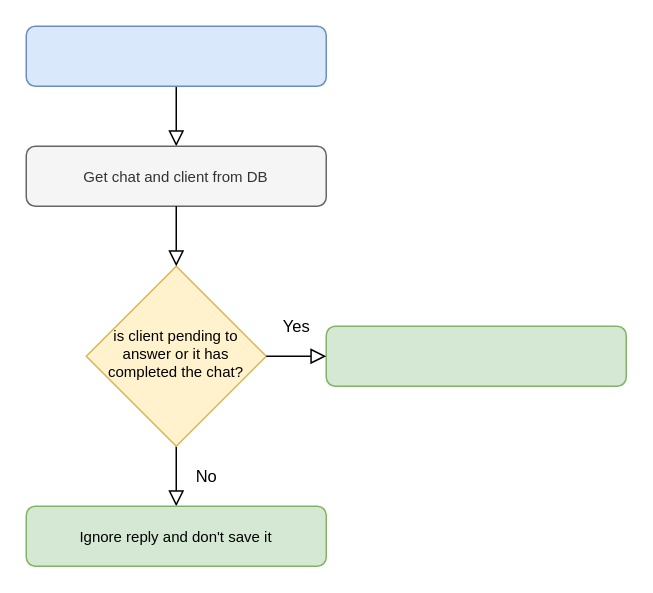
This 653x593 diagram has some shape labels left out. The centre of each missing label's shape, as x and y in pixels:
"- Validateand save the reply - Set client not pending to answer" goes at (475,355).
"Receive client reply" goes at (175,55).
